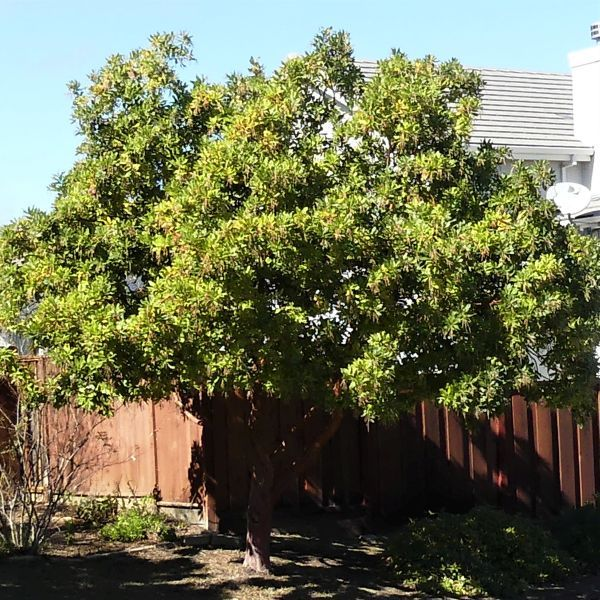tree: (1, 22, 600, 573)
